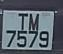5: (16, 29, 29, 49)
7: (5, 28, 17, 49), (27, 30, 40, 49)
9: (38, 30, 50, 49)
M: (28, 12, 41, 33)
T: (16, 11, 29, 33)
